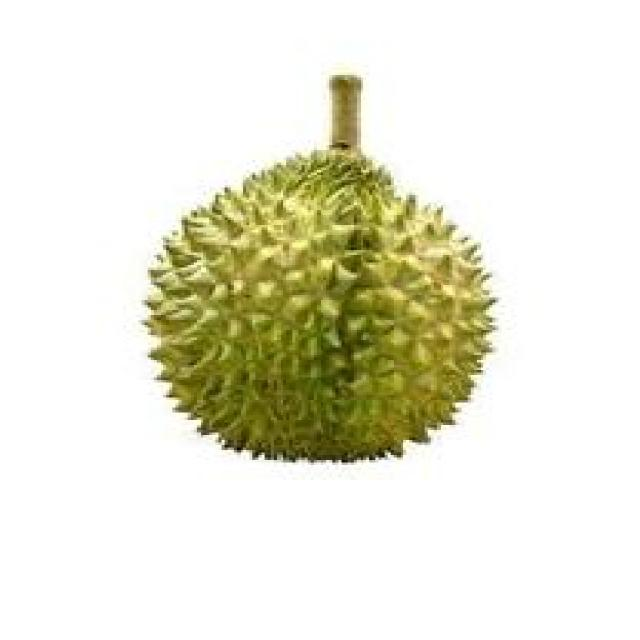fruit: (101, 117, 532, 505)
